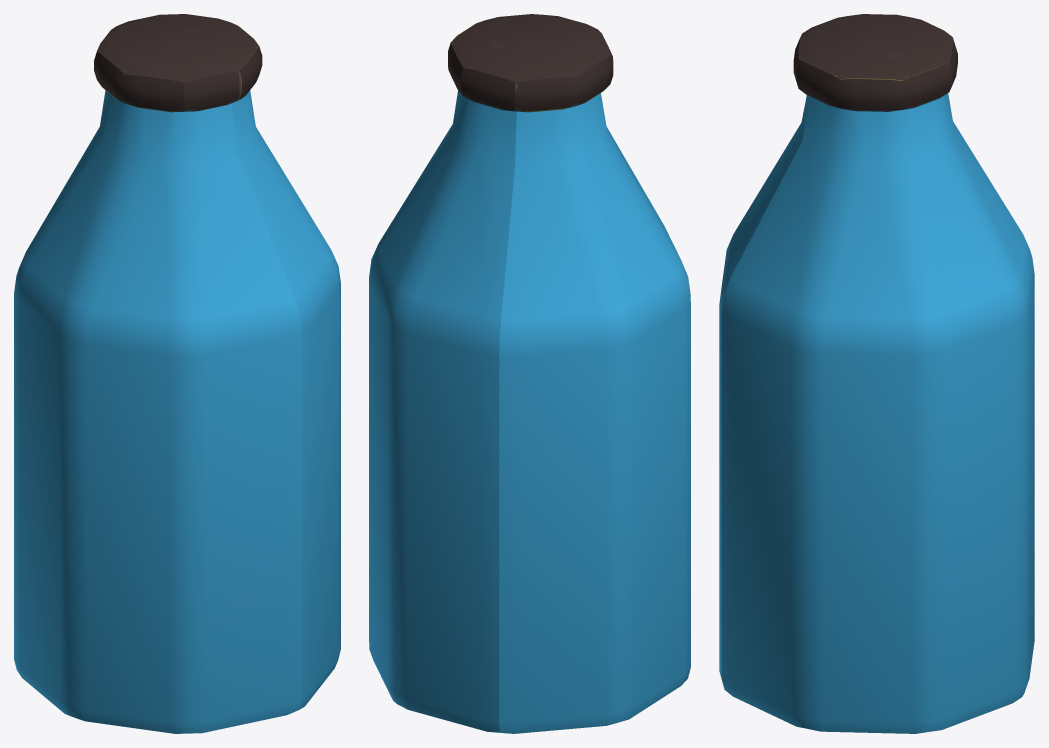
The model's file is Shelf Item (5).fbx.
3 renders of one model, left to right at view 1: azimuth 30°, elevation 25°; view 2: azimuth 150°, elevation 25°; view 3: azimuth 270°, elevation 25°, orthographic.
Parts seen in each view (by area): view 1: Object123; view 2: Object123; view 3: Object123.
Boxes of the visible parts, x1=… form: Object123: x1=14, y1=14, x2=340, y2=733; Object123: x1=369, y1=14, x2=690, y2=733; Object123: x1=719, y1=14, x2=1034, y2=733.
Bounding box in the file's own units: 5.34 × 11.8 × 5.34.
